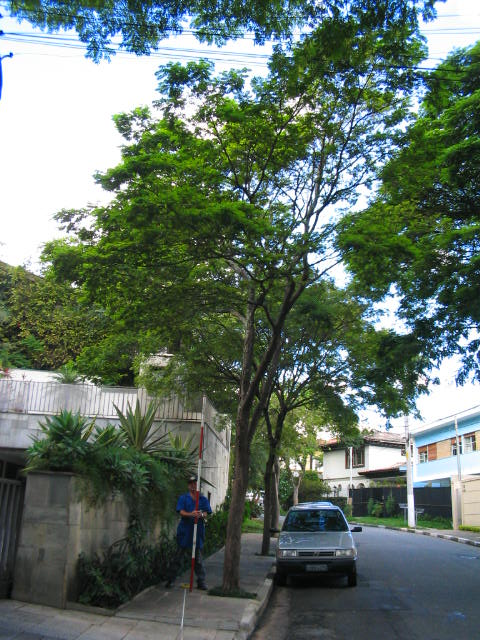crown: (40, 17, 477, 386)
stem: (213, 449, 259, 592)
stick: (184, 395, 209, 594)
tree: (38, 15, 478, 593)
